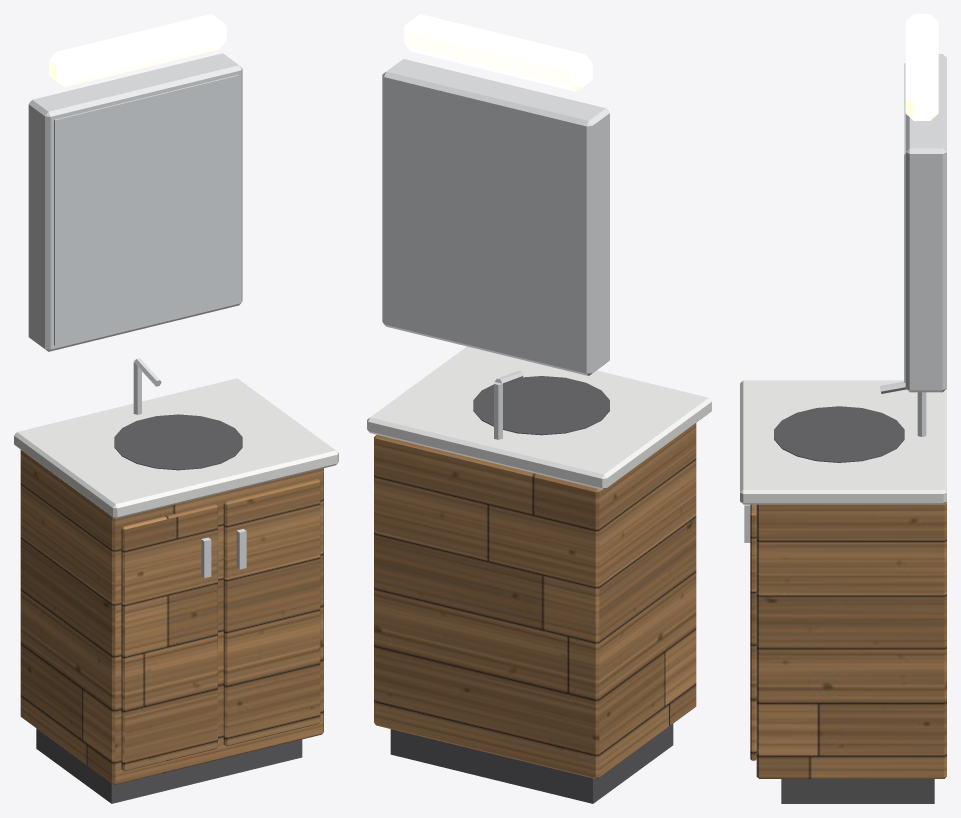
Rendered from vanity.glb.
3 renders of one model, left to right at view 1: azimuth 30°, elevation 25°; view 2: azimuth 150°, elevation 25°; view 3: azimuth 270°, elevation 25°, orthographic. The views are drawn at different scales.
Visible parts, largest first — view 1: vanity_cab, vanity_mirror, vanity_porcelain, vanity_chrome, vanity_dark, vanity_lamp_glass; view 2: vanity_cab, vanity_chrome, vanity_porcelain, vanity_dark, vanity_lamp_glass; view 3: vanity_cab, vanity_porcelain, vanity_chrome, vanity_dark, vanity_lamp_glass, vanity_mirror.
Boxes of the visible parts, x1,y1,x2,y2 form: vanity_cab: [20, 450, 323, 785]; vanity_mirror: [54, 75, 238, 345]; vanity_porcelain: [14, 378, 338, 518]; vanity_chrome: [28, 53, 246, 578]; vanity_dark: [36, 414, 302, 803]; vanity_lamp_glass: [49, 14, 226, 87]; vanity_cab: [374, 423, 696, 779]; vanity_chrome: [382, 59, 609, 439]; vanity_porcelain: [367, 346, 711, 489]; vanity_dark: [390, 376, 673, 803]; vanity_lamp_glass: [404, 14, 592, 91]; vanity_cab: [750, 502, 946, 778]; vanity_porcelain: [740, 380, 946, 504]; vanity_chrome: [744, 54, 946, 542]; vanity_dark: [774, 406, 934, 803]; vanity_lamp_glass: [905, 14, 938, 120]; vanity_mirror: [904, 63, 905, 382].
Size of the model in its own units: 0.64 by 1.88 by 0.5.
Materials: 6 (1 with a texture image).
